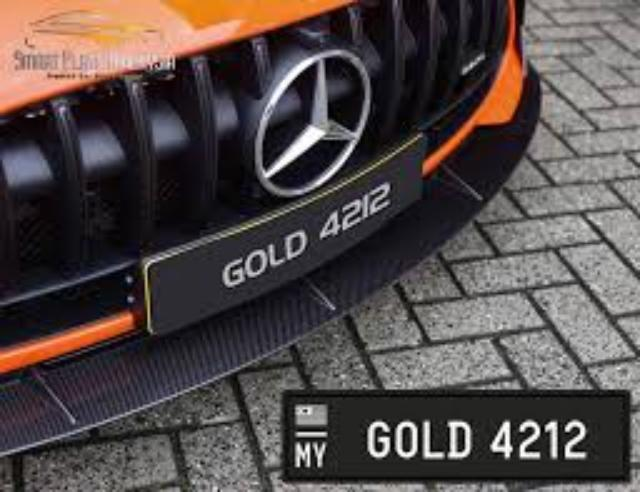License_Plate: (127, 130, 442, 359), (281, 392, 634, 480)
